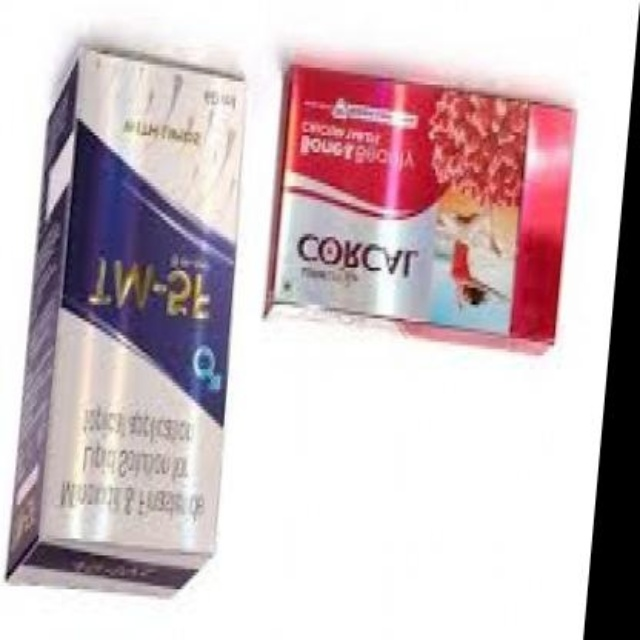trash: (8, 48, 243, 566), (269, 66, 572, 340), (269, 66, 446, 318)
